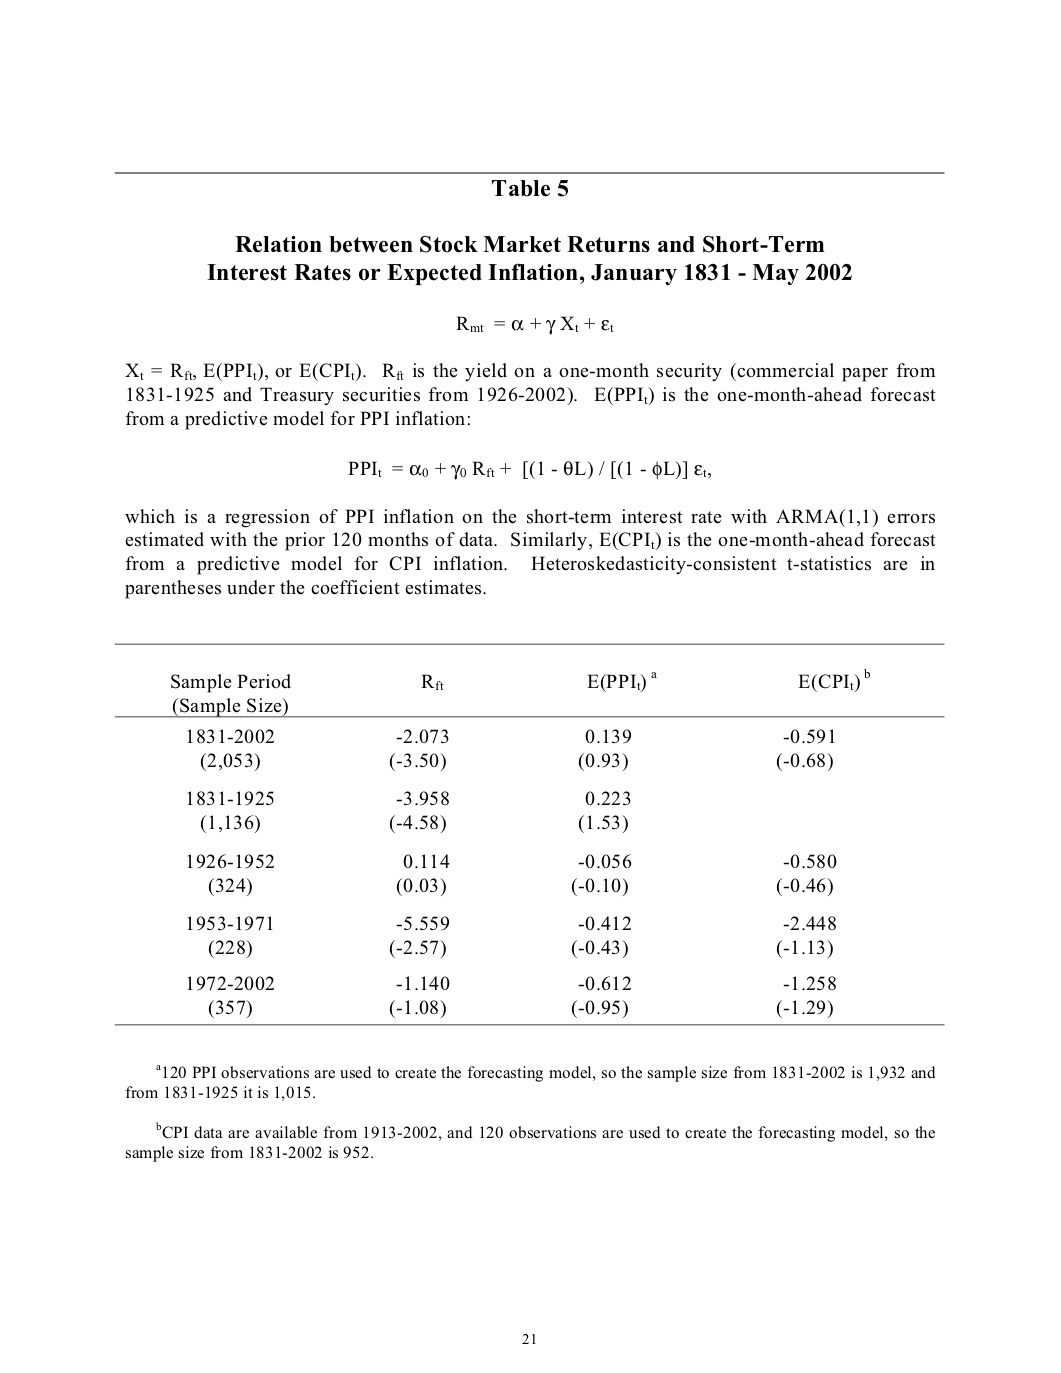Table: (114, 643, 944, 1025)
formula: (348, 460, 710, 480), (456, 315, 613, 335)
